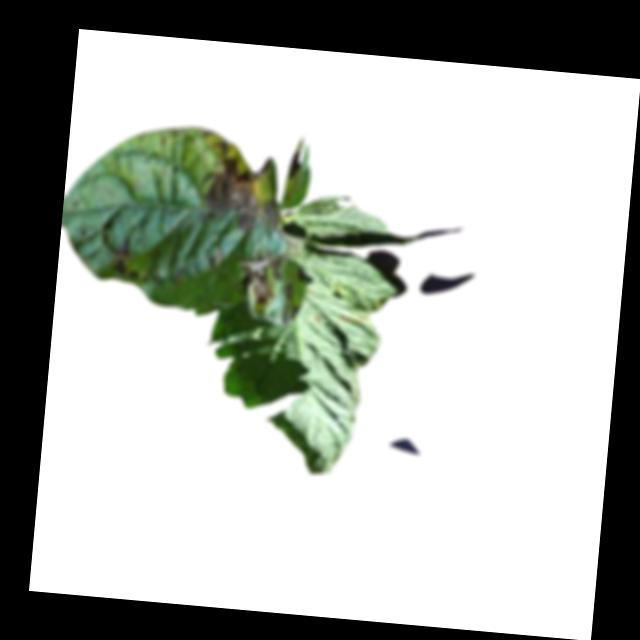Early_blight: (201, 142, 283, 235), (233, 247, 284, 308), (108, 233, 133, 276), (339, 312, 367, 330), (293, 266, 315, 285), (281, 281, 298, 303)
